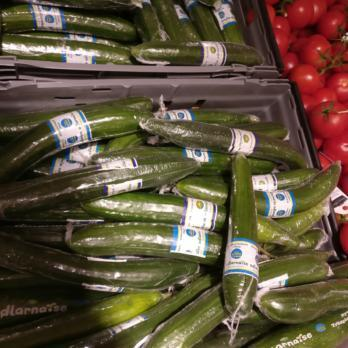Cucumber: (1, 102, 285, 348), (0, 0, 262, 63), (282, 162, 336, 348)
